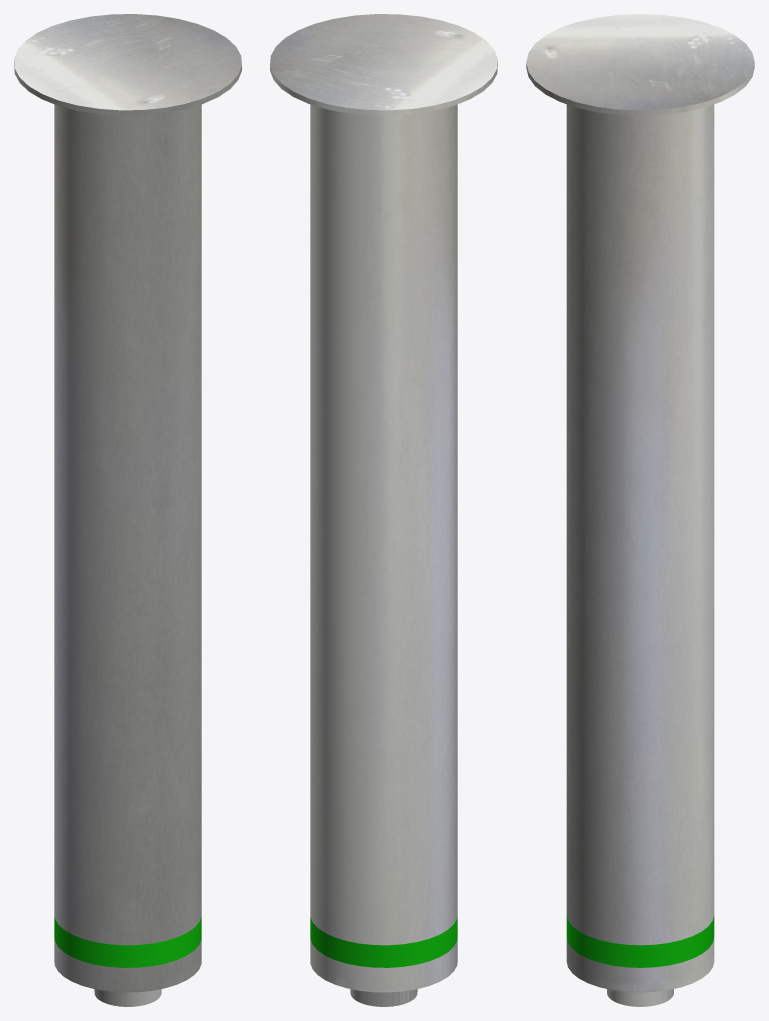
File: sail.obj
3 renders of one model, left to right at view 1: azimuth 30°, elevation 25°; view 2: azimuth 150°, elevation 25°; view 3: azimuth 270°, elevation 25°, orthographic.
Visible parts, largest first — view 1: Cylinder; view 2: Cylinder; view 3: Cylinder.
Boxes of the visible parts, x1=… form: Cylinder: x1=14, y1=14, x2=241, y2=1006; Cylinder: x1=270, y1=14, x2=497, y2=1006; Cylinder: x1=526, y1=14, x2=754, y2=1006.
Size of the model in its own units: 6.75 by 30.34 by 6.75.
2 materials, 1 textured.
